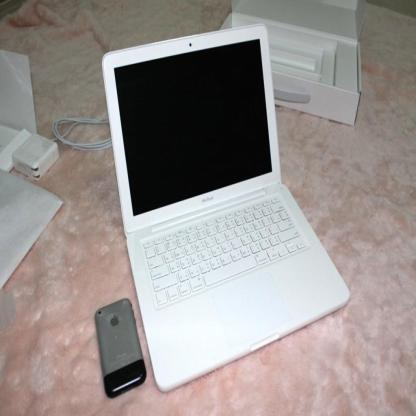board: (88, 17, 346, 397)
